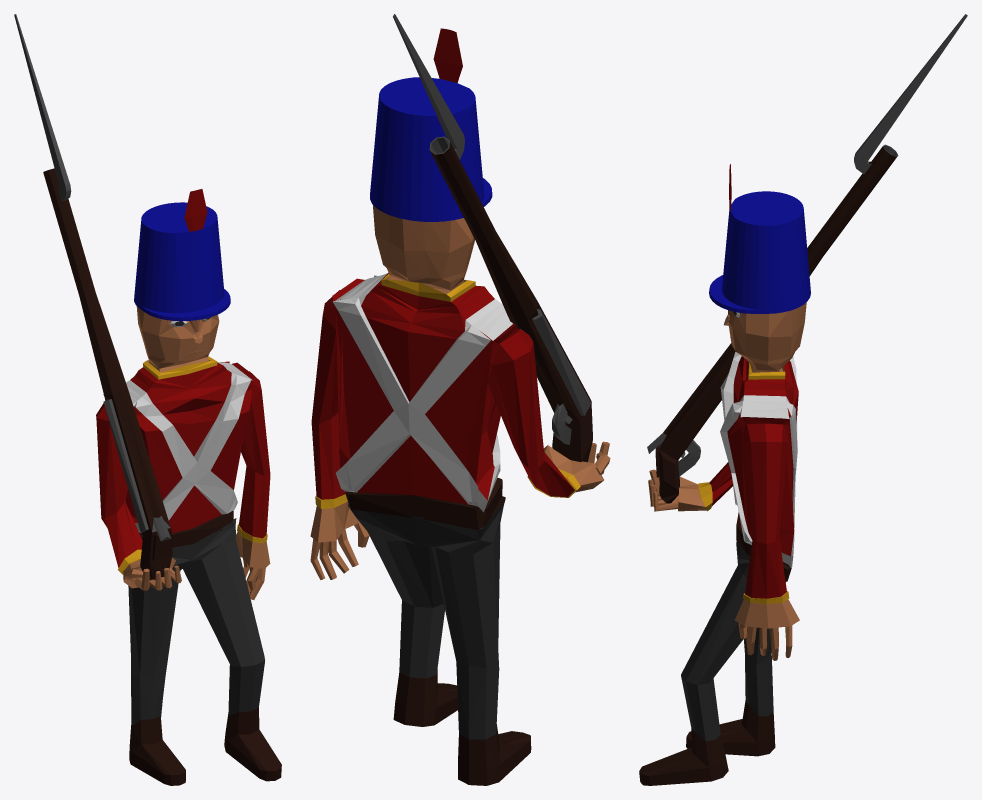
File: Infantry_000076.obj
3 renders of one model, left to right at view 1: azimuth 30°, elevation 25°; view 2: azimuth 150°, elevation 25°; view 3: azimuth 270°, elevation 25°, orthographic. The views are drawn at different scales.
Visible parts, largest first — view 1: {Man}_Circle, {Mesket}_Cube.001; view 2: {Man}_Circle, {Mesket}_Cube.001; view 3: {Man}_Circle, {Mesket}_Cube.001.
Part boxes in pixels (<box>): {Man}_Circle: <box>96,189,281,785</box>; {Mesket}_Cube.001: <box>14,14,172,580</box>; {Man}_Circle: <box>310,28,610,785</box>; {Mesket}_Cube.001: <box>393,14,592,462</box>; {Man}_Circle: <box>639,164,810,785</box>; {Mesket}_Cube.001: <box>647,14,967,503</box>.
Size of the model in its own units: 5.63 by 19.59 by 8.13.
